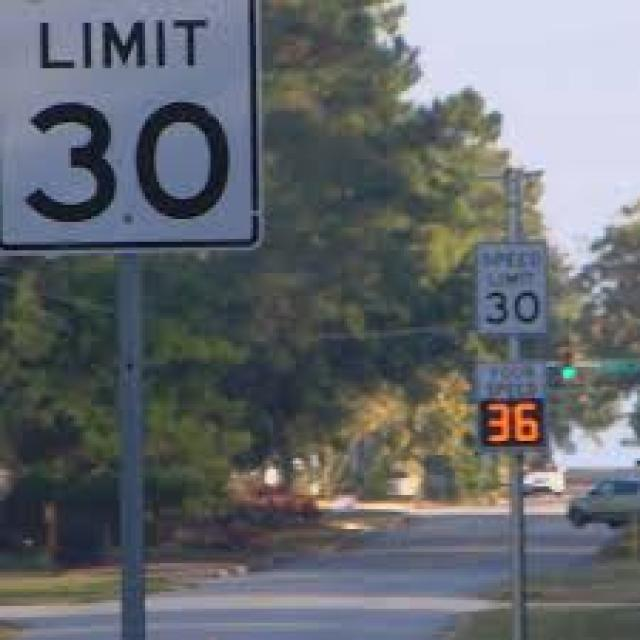speedLimit30: (0, 1, 269, 253), (469, 238, 546, 337)
